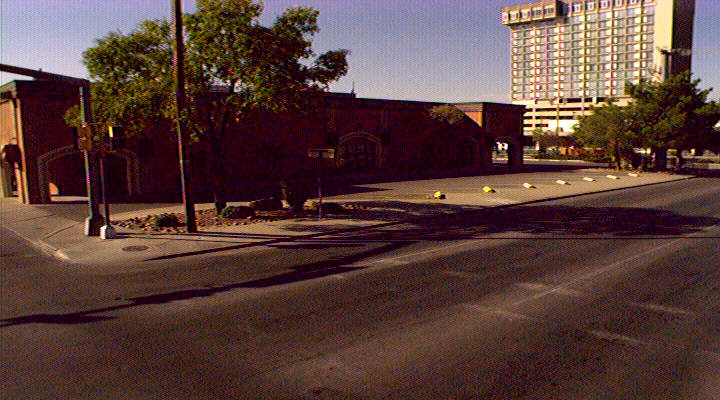Ramp: (59, 232, 195, 271)
